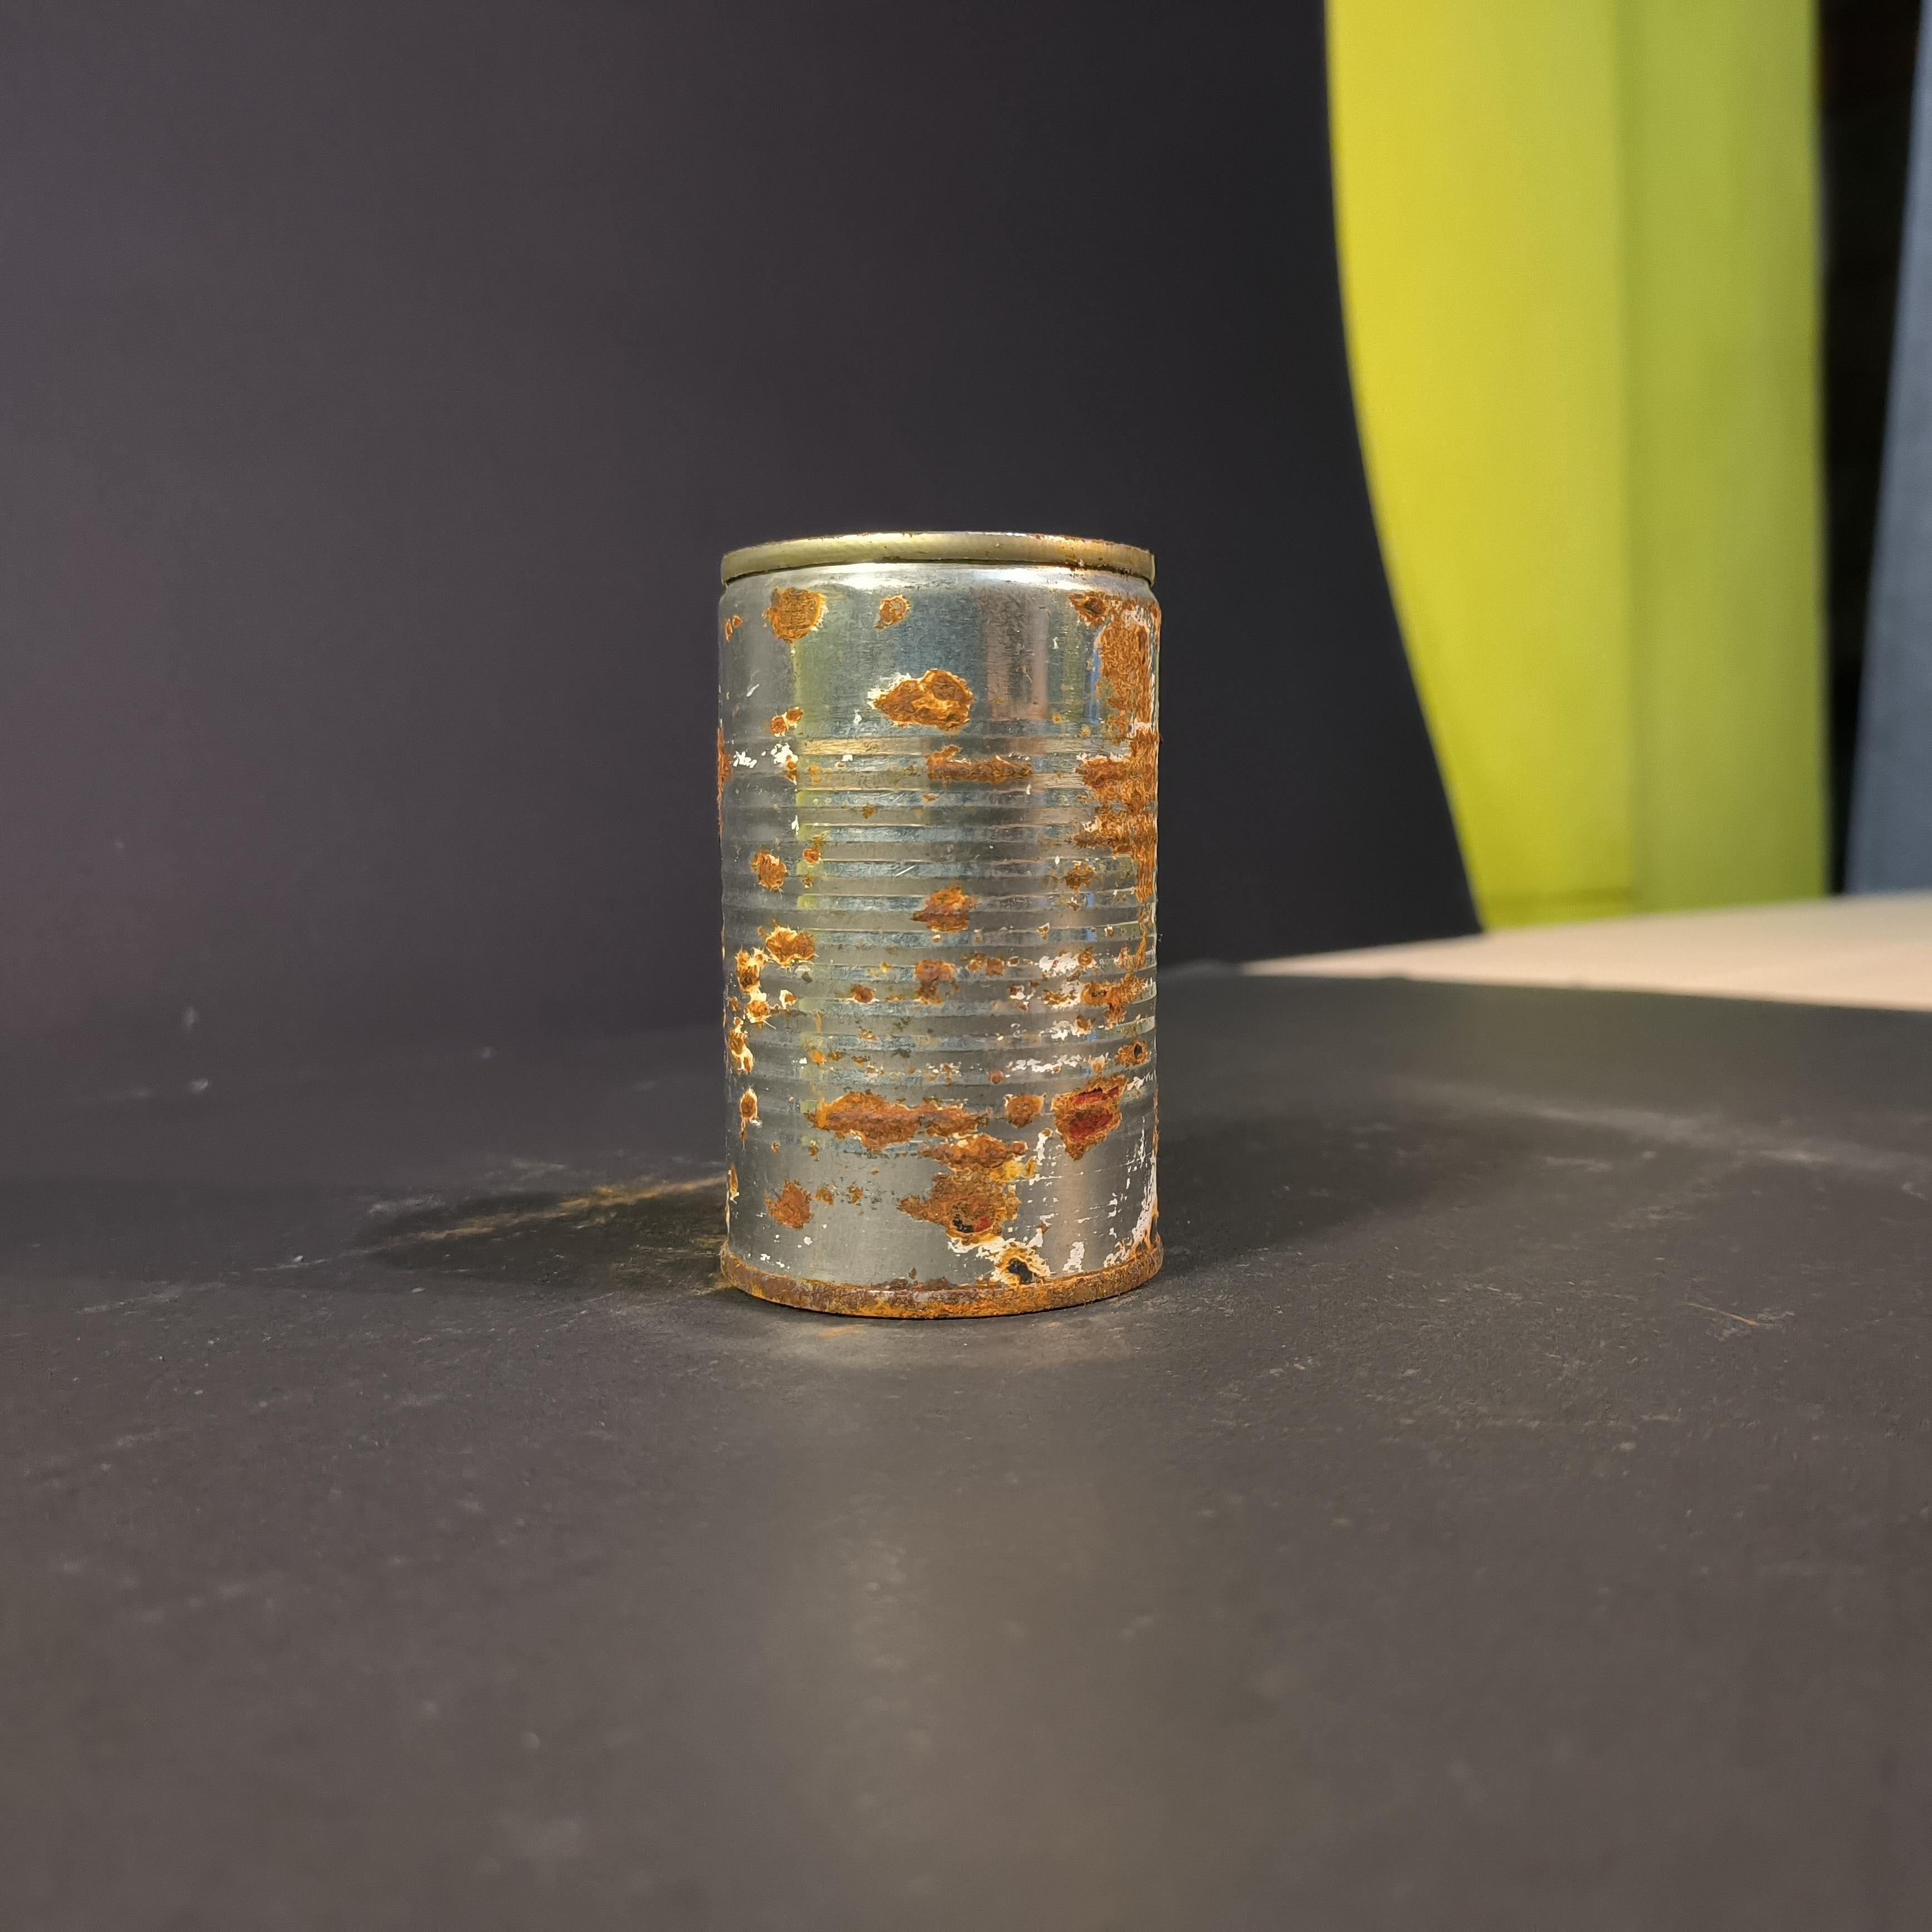Rusted: (701, 497, 1191, 1345)
